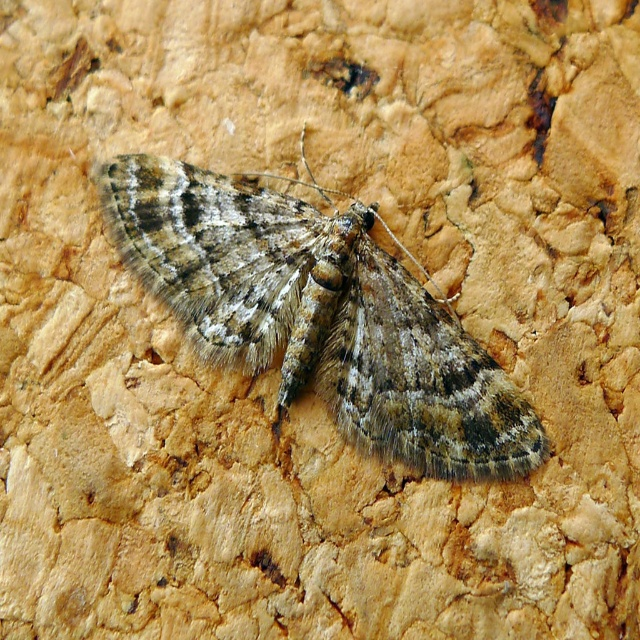Moths and butterflies: (89, 118, 552, 481)
